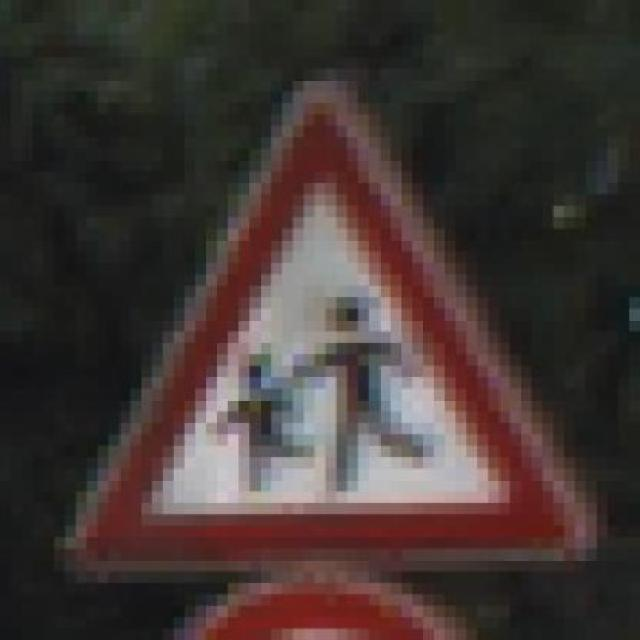Beware of children: (43, 57, 608, 594)
